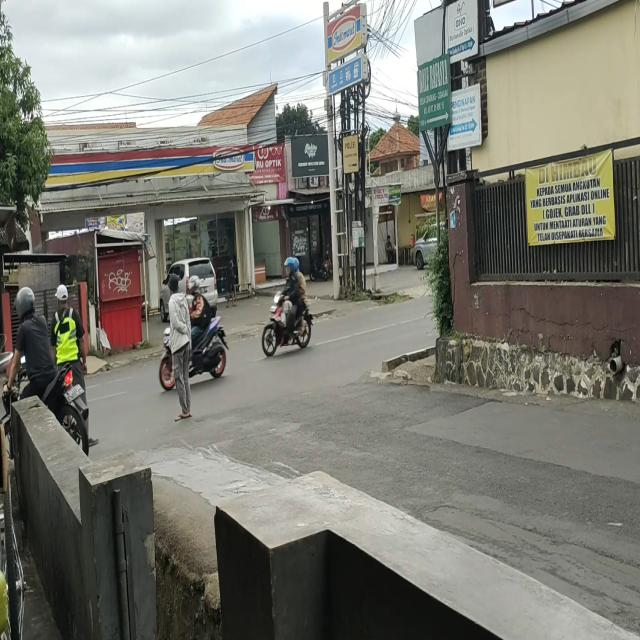helmet: (14, 288, 36, 317), (188, 276, 200, 293), (284, 258, 294, 277), (292, 256, 298, 271)
